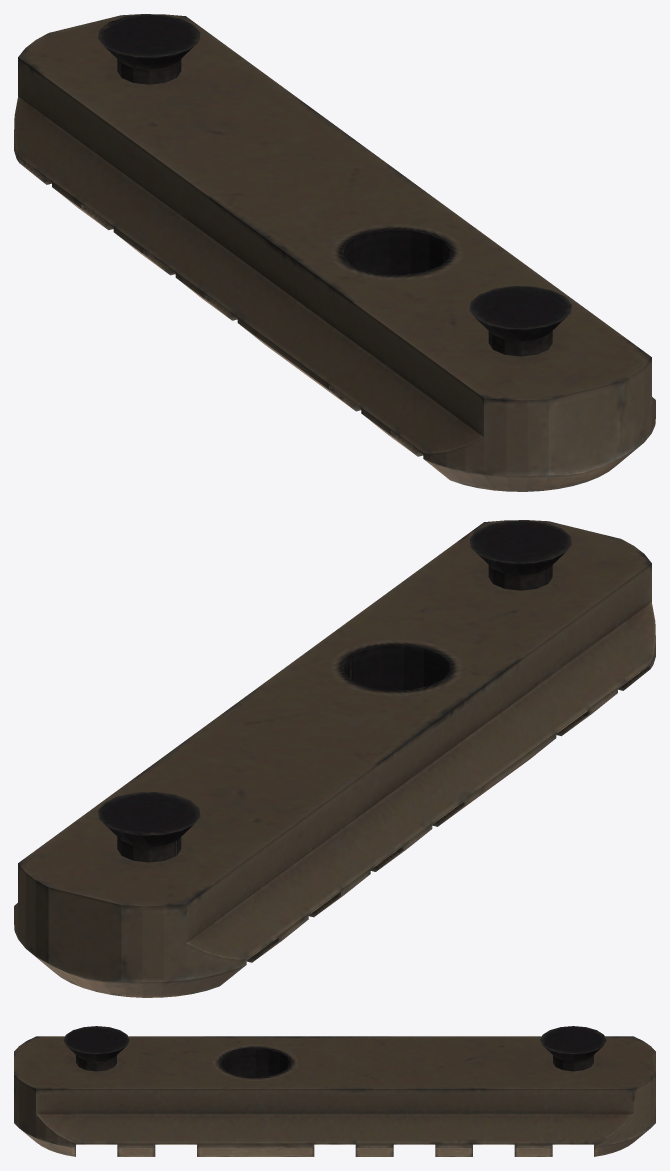
3 views of the same model, one above another, from view 1: azimuth 30°, elevation 25°; view 2: azimuth 150°, elevation 25°; view 3: azimuth 270°, elevation 25° (orthographic). The views are drawn at different scales.
Visible parts, largest first — view 1: TW_628120d309427b40ab14e76d_PZ_Import; view 2: TW_628120d309427b40ab14e76d_PZ_Import; view 3: TW_628120d309427b40ab14e76d_PZ_Import.
Part boxes in pixels (x1=…): TW_628120d309427b40ab14e76d_PZ_Import: x1=14, y1=14, x2=655, y2=491; TW_628120d309427b40ab14e76d_PZ_Import: x1=14, y1=520, x2=655, y2=997; TW_628120d309427b40ab14e76d_PZ_Import: x1=14, y1=1026, x2=655, y2=1156.
Bounding box in the file's own units: 0.0123 × 0.0467 × 0.00721.
Materials: 1 (1 with a texture image).
